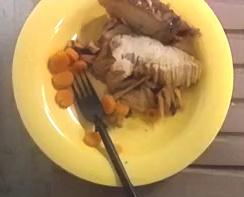carrots: (47, 47, 86, 107), (102, 95, 129, 116)
pork: (90, 0, 201, 127)
